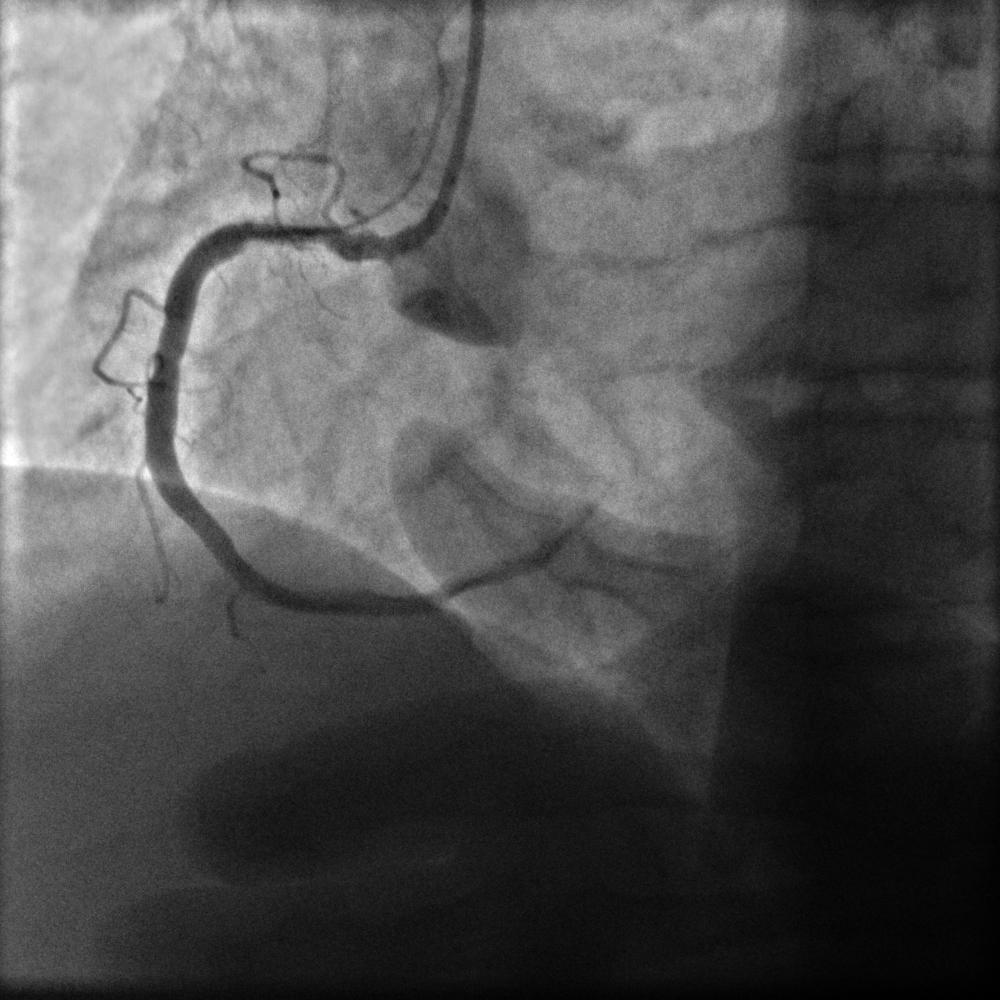Stenosis: (235, 210, 362, 270)
